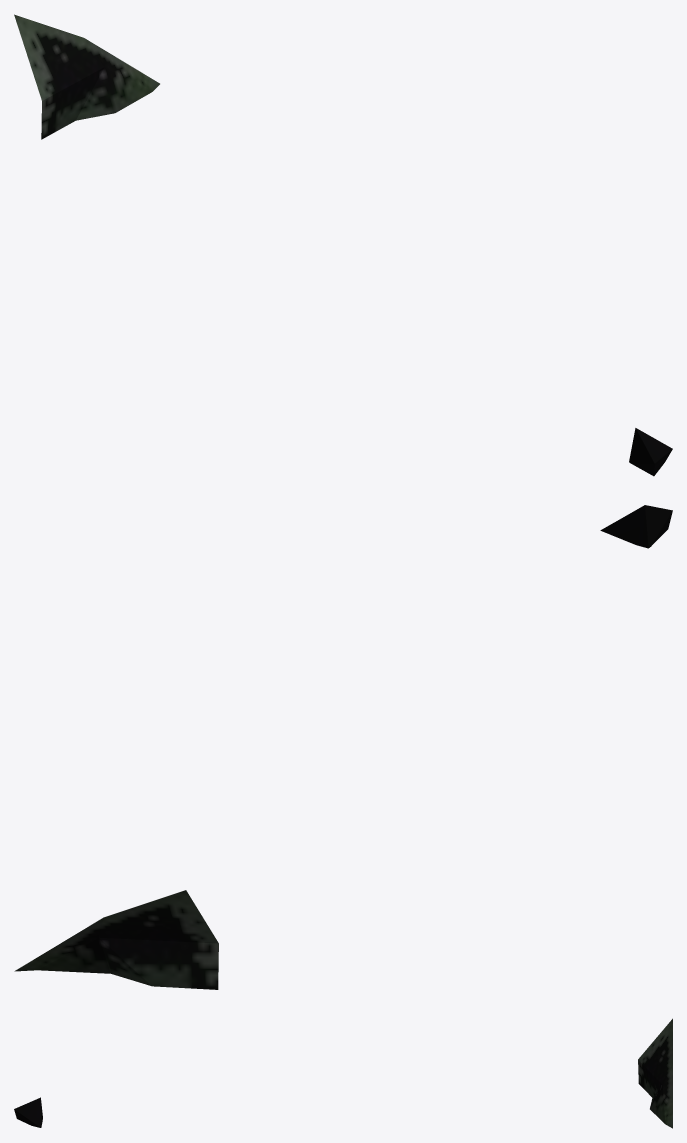
3 views of the same model, one above another, from view 1: azimuth 30°, elevation 25°; view 2: azimuth 150°, elevation 25°; view 3: azimuth 270°, elevation 25° (orthographic). The views are drawn at different scales.
Size of the model in its own units: 0.7463 by 0.4907 by 4.46.
1 material, 1 textured.
